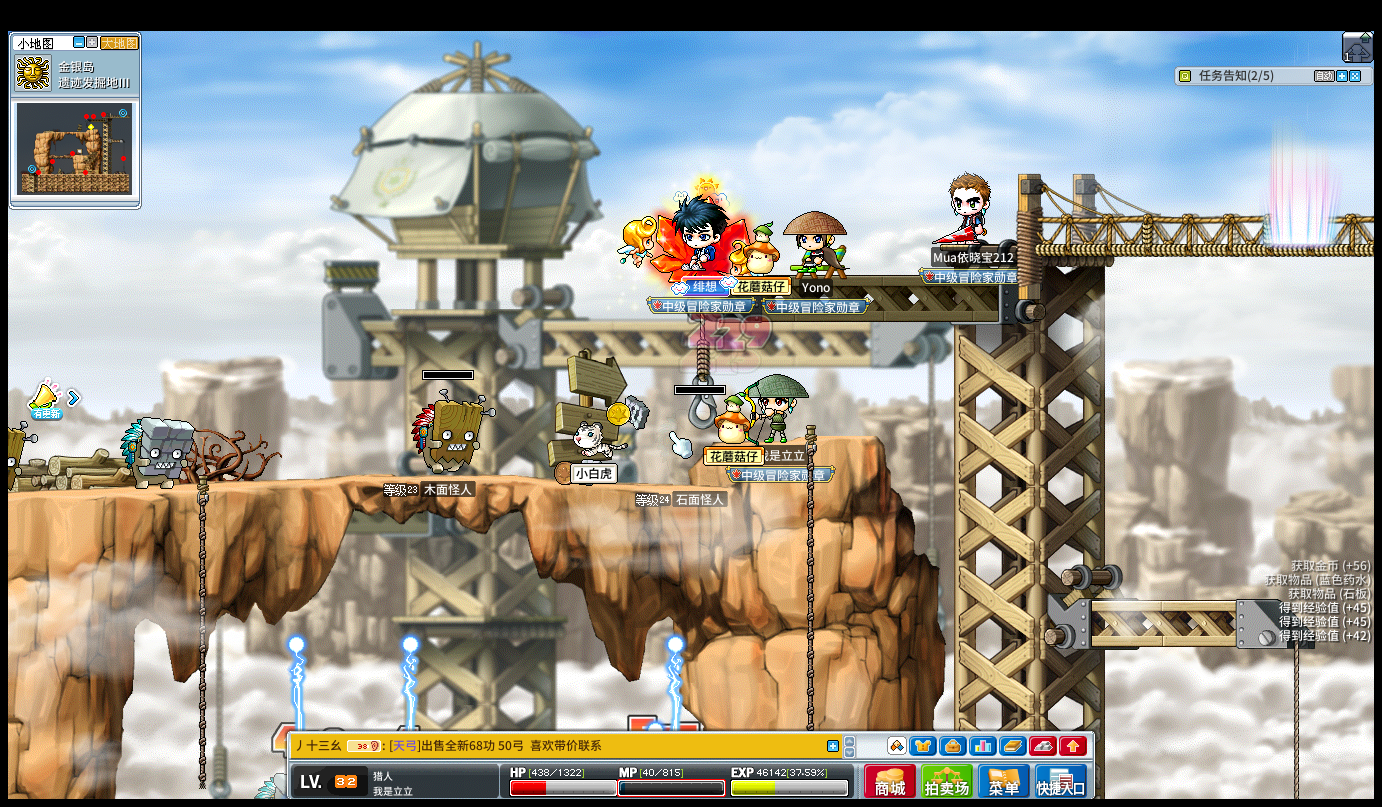floor: (17, 469, 777, 500), (42, 470, 792, 492)
monster: (410, 393, 488, 476), (120, 416, 194, 492)
rope: (193, 467, 207, 800), (802, 433, 817, 726), (1289, 645, 1303, 794)
